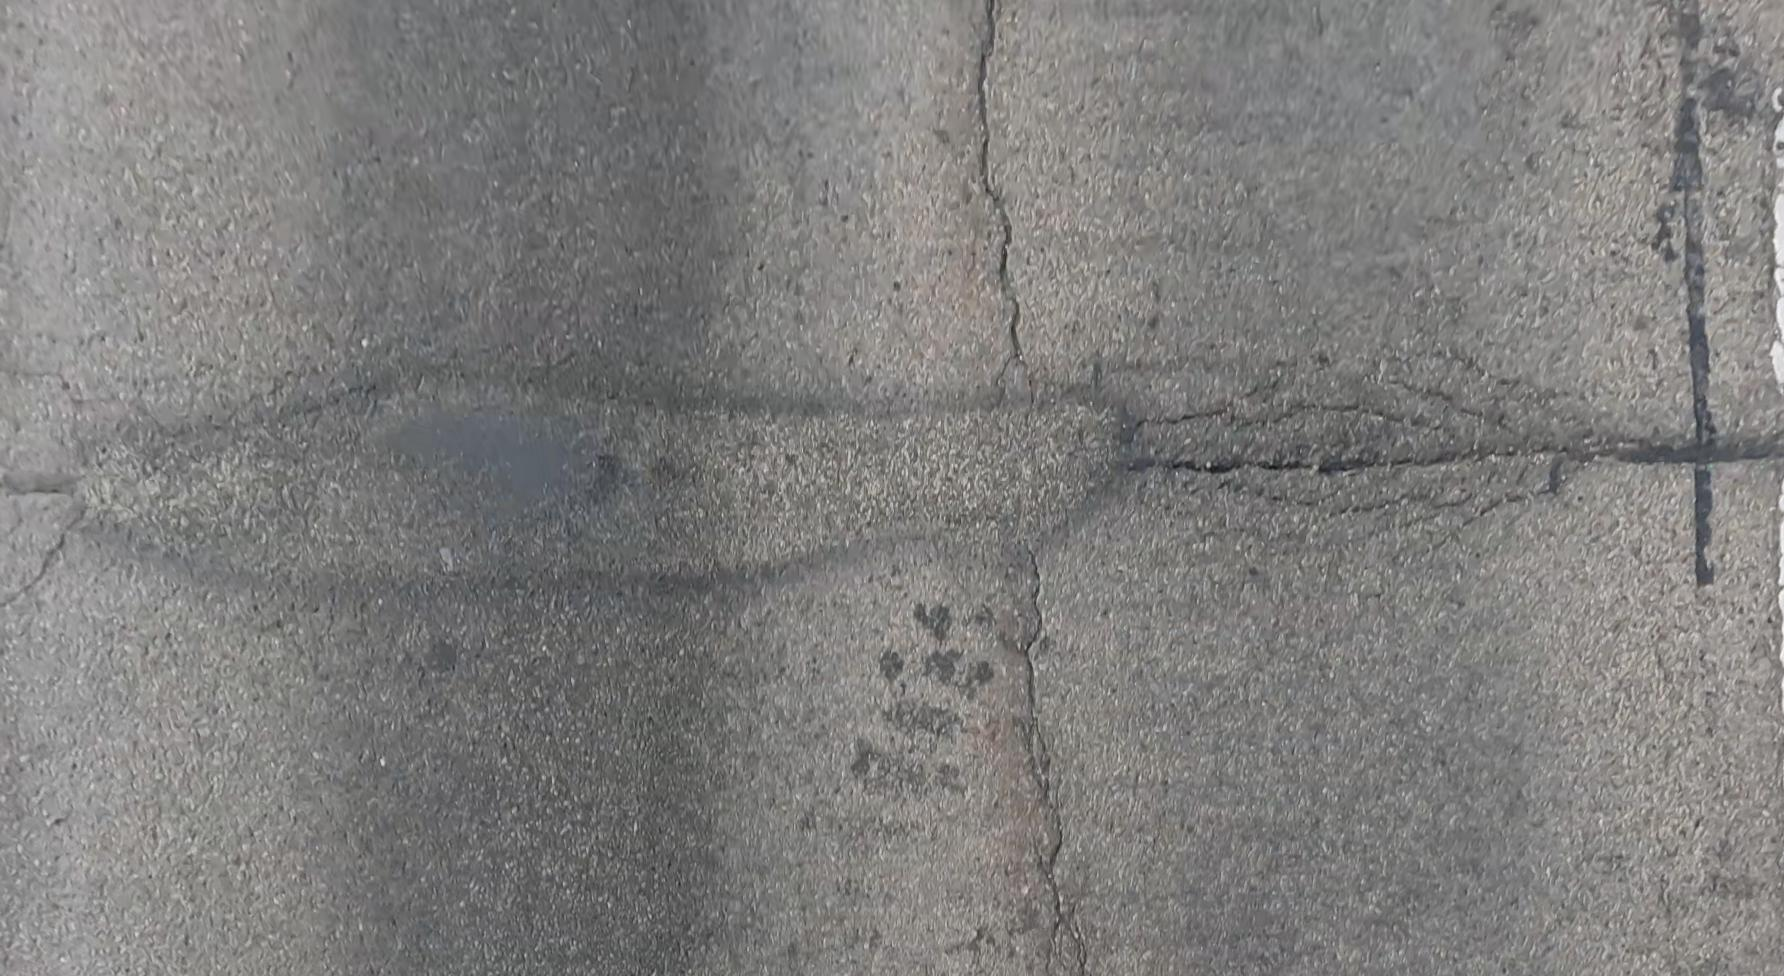pothole_patch_good: (378, 410, 602, 525)
